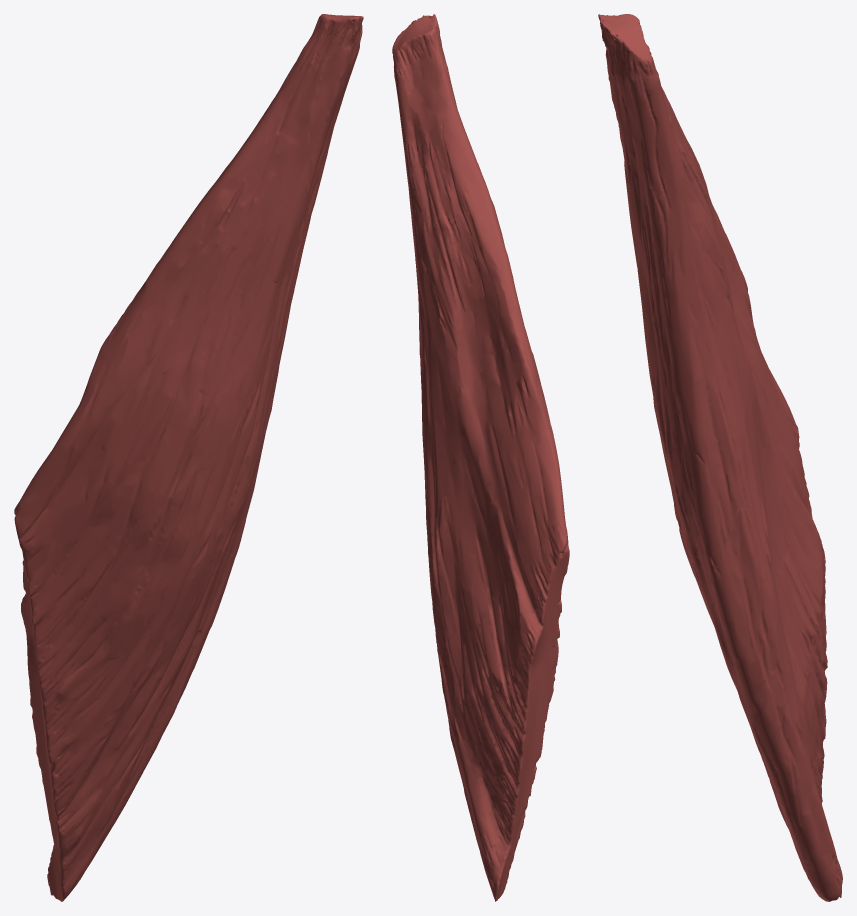
Rendered from FMA22456.glb.
3 views of the same model, side by side, from view 1: azimuth 30°, elevation 25°; view 2: azimuth 150°, elevation 25°; view 3: azimuth 270°, elevation 25° (orthographic). The views are drawn at different scales.
Visible parts, largest first — view 1: FMA22456; view 2: FMA22456; view 3: FMA22456.
Part boxes in pixels (x1,y1,x2,y2): FMA22456: [14, 14, 363, 901]; FMA22456: [392, 14, 569, 901]; FMA22456: [598, 14, 842, 901].
Size of the model in its own units: 0.0804 by 0.2565 by 0.0579.
